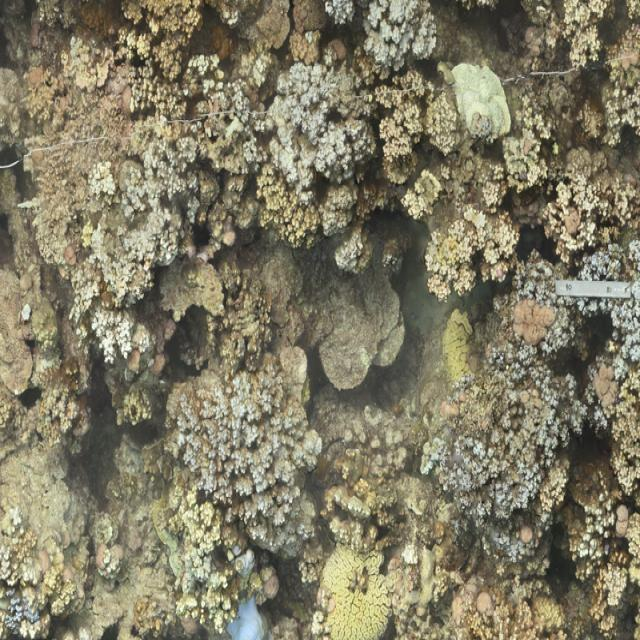Bleached Coral: (187, 381, 301, 529), (260, 63, 358, 185), (109, 145, 192, 269), (82, 256, 145, 376), (451, 49, 518, 147), (366, 0, 429, 84), (3, 582, 46, 639)
